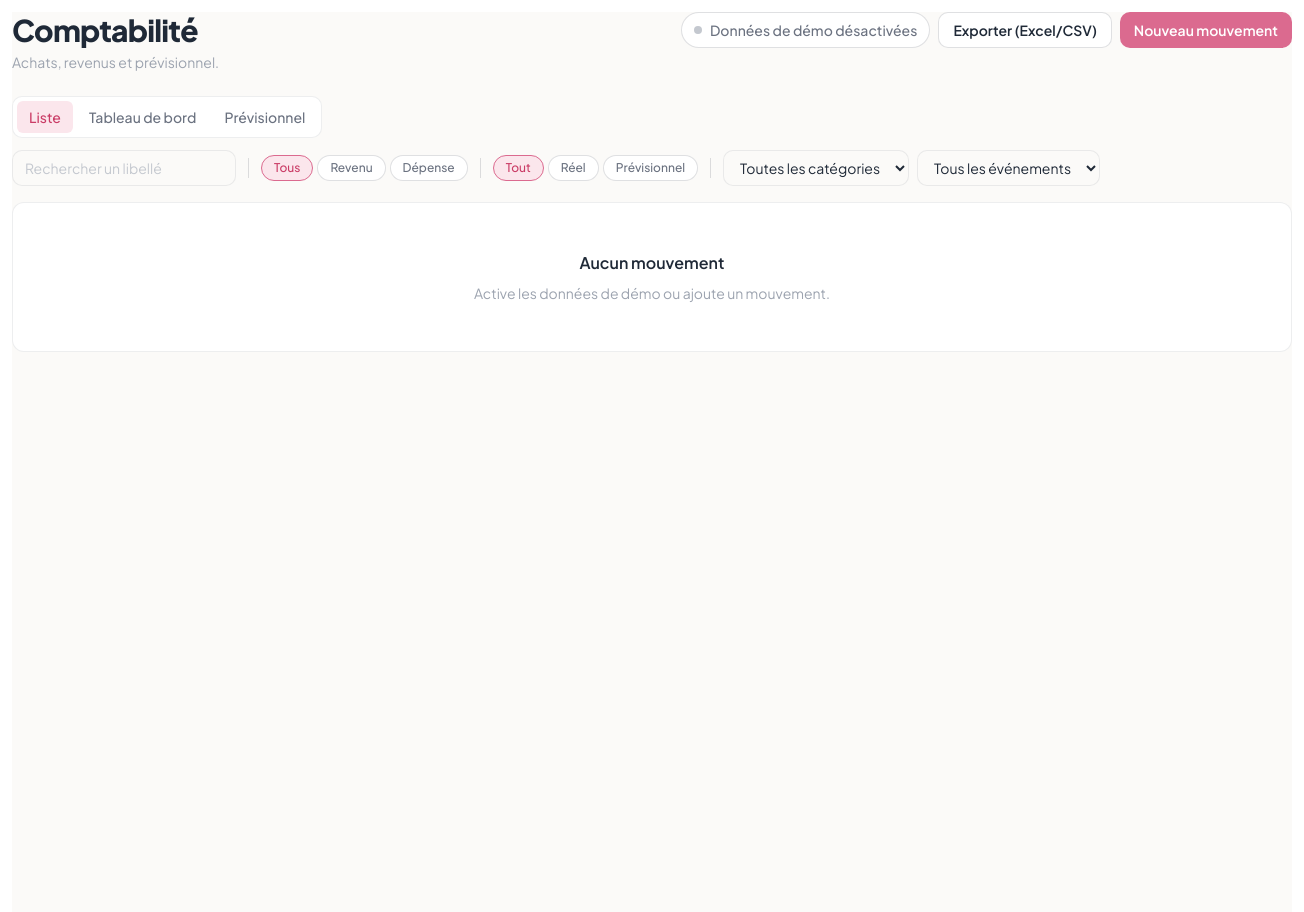
Test case: AccountingPage › ouvre la création via "Nouveau mouvement"
Click the button "Nouveau mouvement".
click(1206, 30)  # box [1120, 12, 1292, 48]
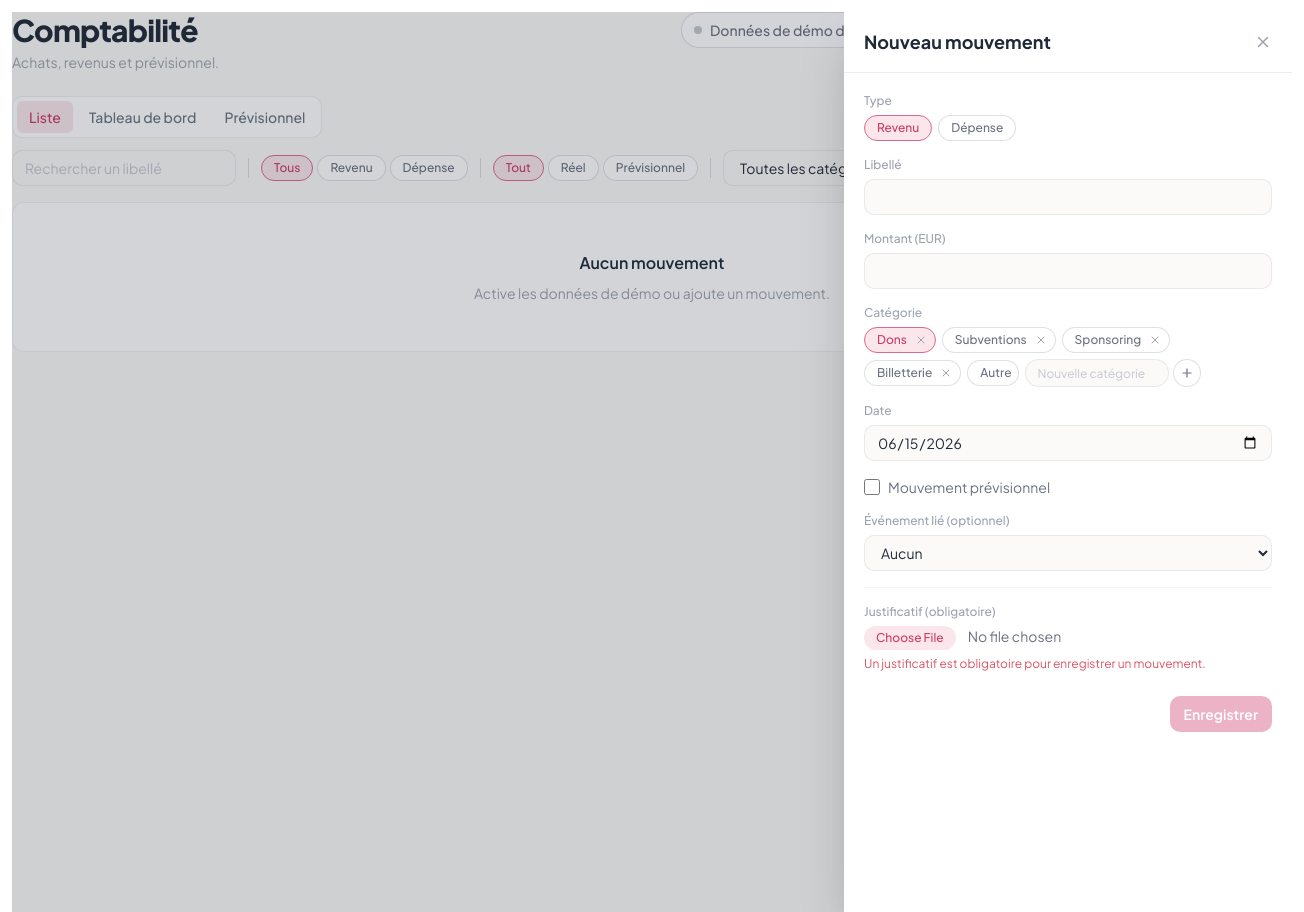
expect the heading "Nouveau mouvement" is shown: met, box [864, 28, 1051, 56]
